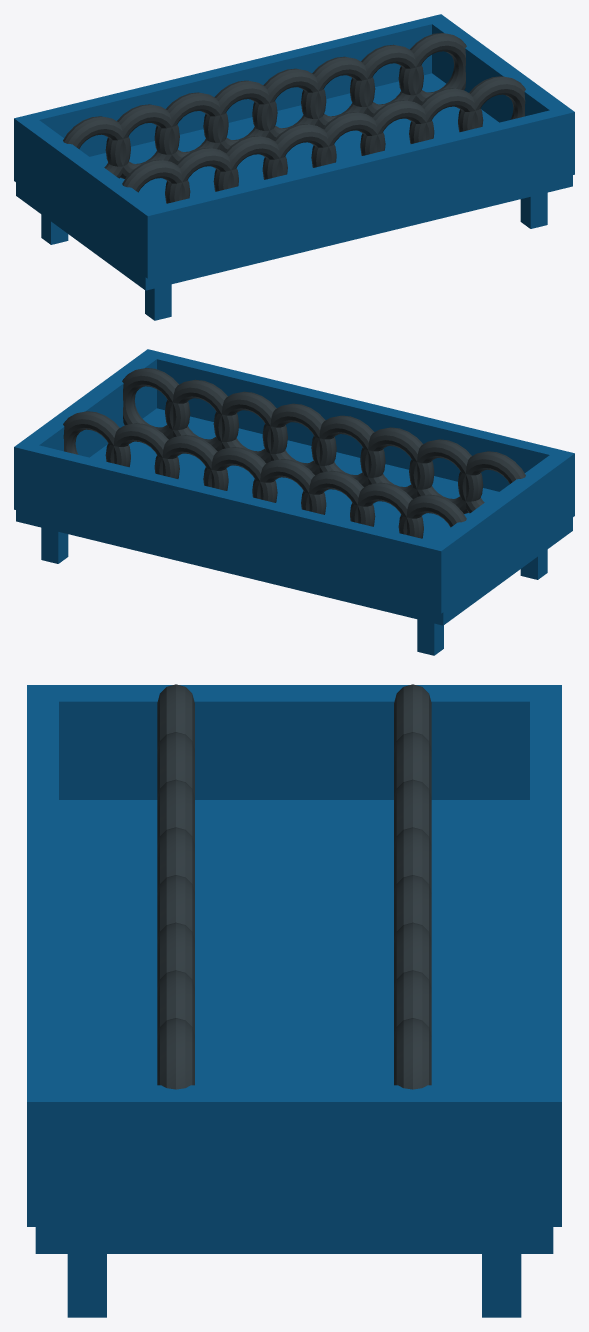
The model's file is parts_tray.dae.
3 views of the same model, one above another, from view 1: azimuth 30°, elevation 25°; view 2: azimuth 150°, elevation 25°; view 3: azimuth 270°, elevation 25° (orthographic). The views are drawn at different scales.
Parts seen in each view (by area): view 1: parts_tray; view 2: parts_tray; view 3: parts_tray.
Part boxes in pixels (<box>): parts_tray: <box>14,14,574,320</box>; parts_tray: <box>14,349,574,655</box>; parts_tray: <box>27,684,561,1317</box>.
Size of the model in its own units: 2 by 1.09 by 0.598.
